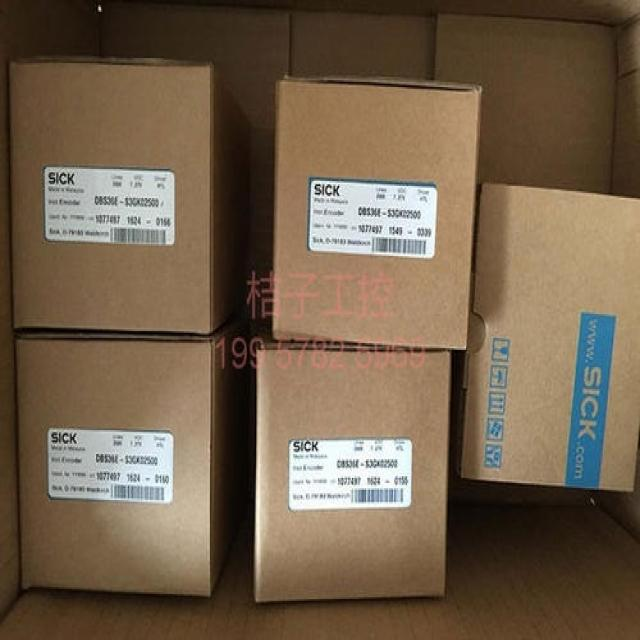box: (14, 304, 252, 597), (9, 56, 251, 333), (271, 75, 483, 350), (461, 184, 640, 492), (253, 345, 449, 602)
